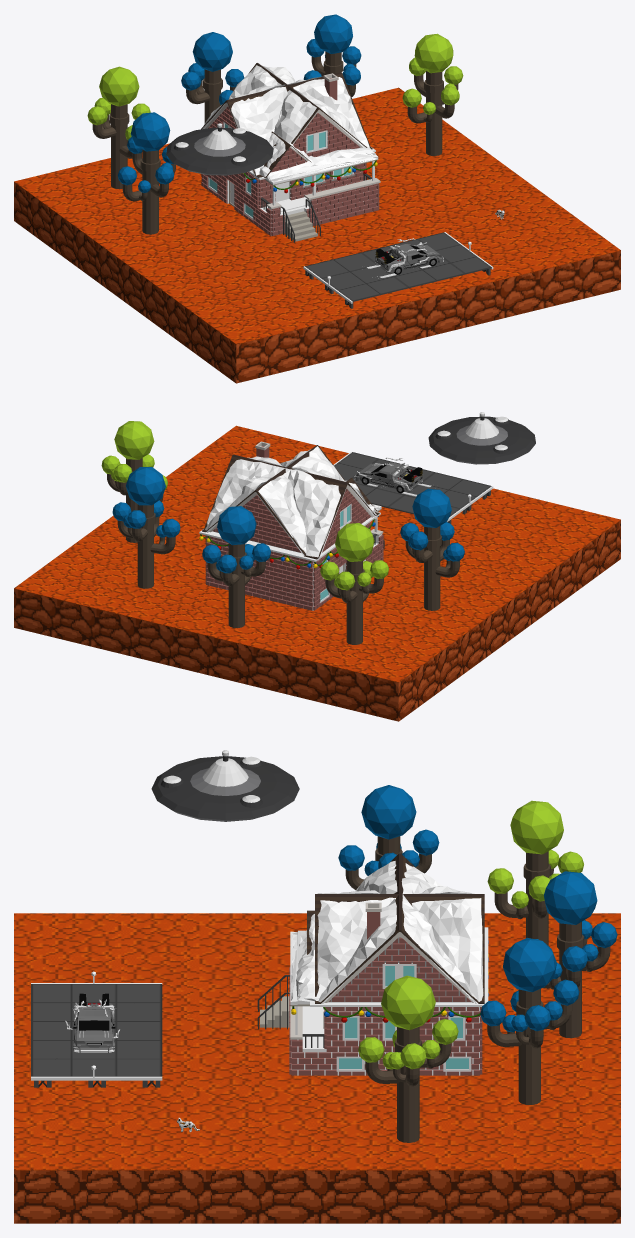
3 views of the same model, one above another, from view 1: azimuth 30°, elevation 25°; view 2: azimuth 150°, elevation 25°; view 3: azimuth 270°, elevation 25° (orthographic). The views are drawn at different scales.
Parts seen in each view (by area): view 1: Cube.001, Cube.1419, OBJRANDOM_UFO, VEHICLES_DELOREAN; view 2: Cube.001, Cube.1419, OBJRANDOM_UFO, VEHICLES_DELOREAN; view 3: Cube.001, Cube.1419, OBJRANDOM_UFO, VEHICLES_DELOREAN.
Part boxes in pixels (bbox=[...]): Cube.001: bbox=[14, 14, 620, 383]; Cube.1419: bbox=[200, 63, 380, 242]; OBJRANDOM_UFO: bbox=[166, 123, 273, 175]; VEHICLES_DELOREAN: bbox=[367, 238, 444, 278]; Cube.001: bbox=[14, 421, 620, 721]; Cube.1419: bbox=[199, 441, 384, 610]; OBJRANDOM_UFO: bbox=[428, 412, 535, 464]; VEHICLES_DELOREAN: bbox=[354, 457, 433, 496]; Cube.001: bbox=[14, 785, 620, 1223]; Cube.1419: bbox=[257, 853, 488, 1075]; OBJRANDOM_UFO: bbox=[151, 750, 299, 821]; VEHICLES_DELOREAN: bbox=[65, 993, 119, 1053].
Bounding box in the file's own units: 4000 × 1956 × 4000.
42 materials, 4 textured.
